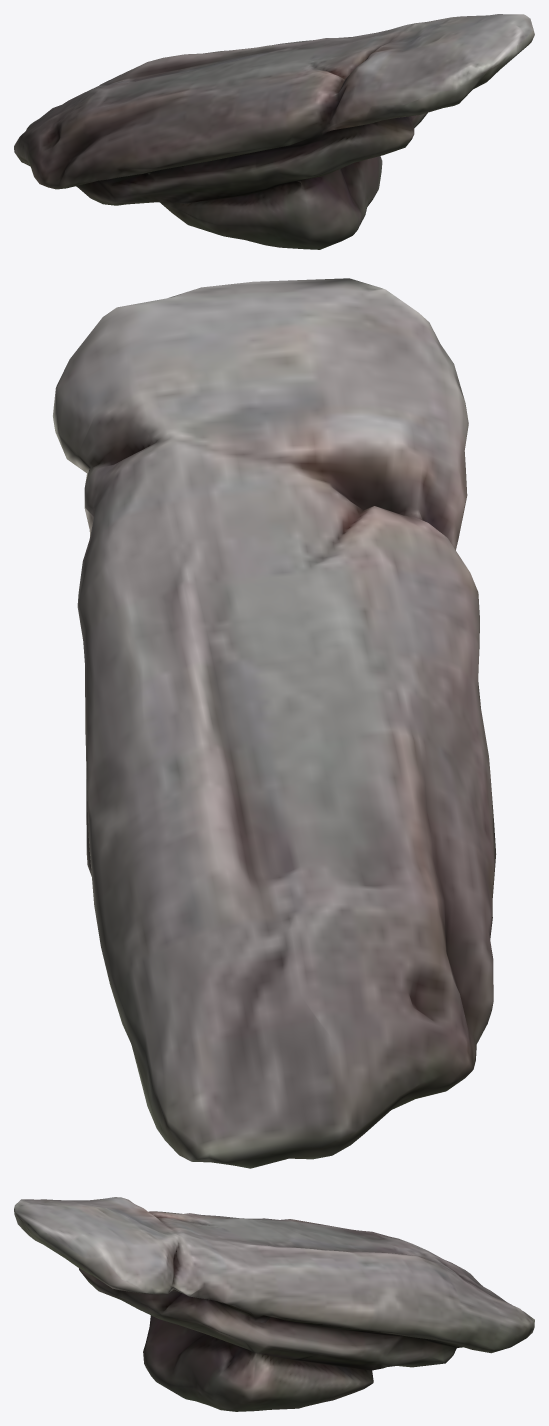
File: sp-fels-gross-5.glb
The picture shows the model from 3 angles, top to bottom: view 1: azimuth 30°, elevation 25°; view 2: azimuth 150°, elevation 25°; view 3: azimuth 270°, elevation 25°; orthographic projection. The views are drawn at different scales.
Parts seen in each view (by area): view 1: sp-fels-gross-5; view 2: sp-fels-gross-5; view 3: sp-fels-gross-5.
Boxes of the visible parts, box(x1,y1,x2,y2) form: sp-fels-gross-5: box(14, 14, 534, 249); sp-fels-gross-5: box(53, 278, 496, 1168); sp-fels-gross-5: box(14, 1197, 534, 1411).
Size of the model in its own units: 5.03 by 3.19 by 6.68.
Materials: 1 (1 with a texture image).
